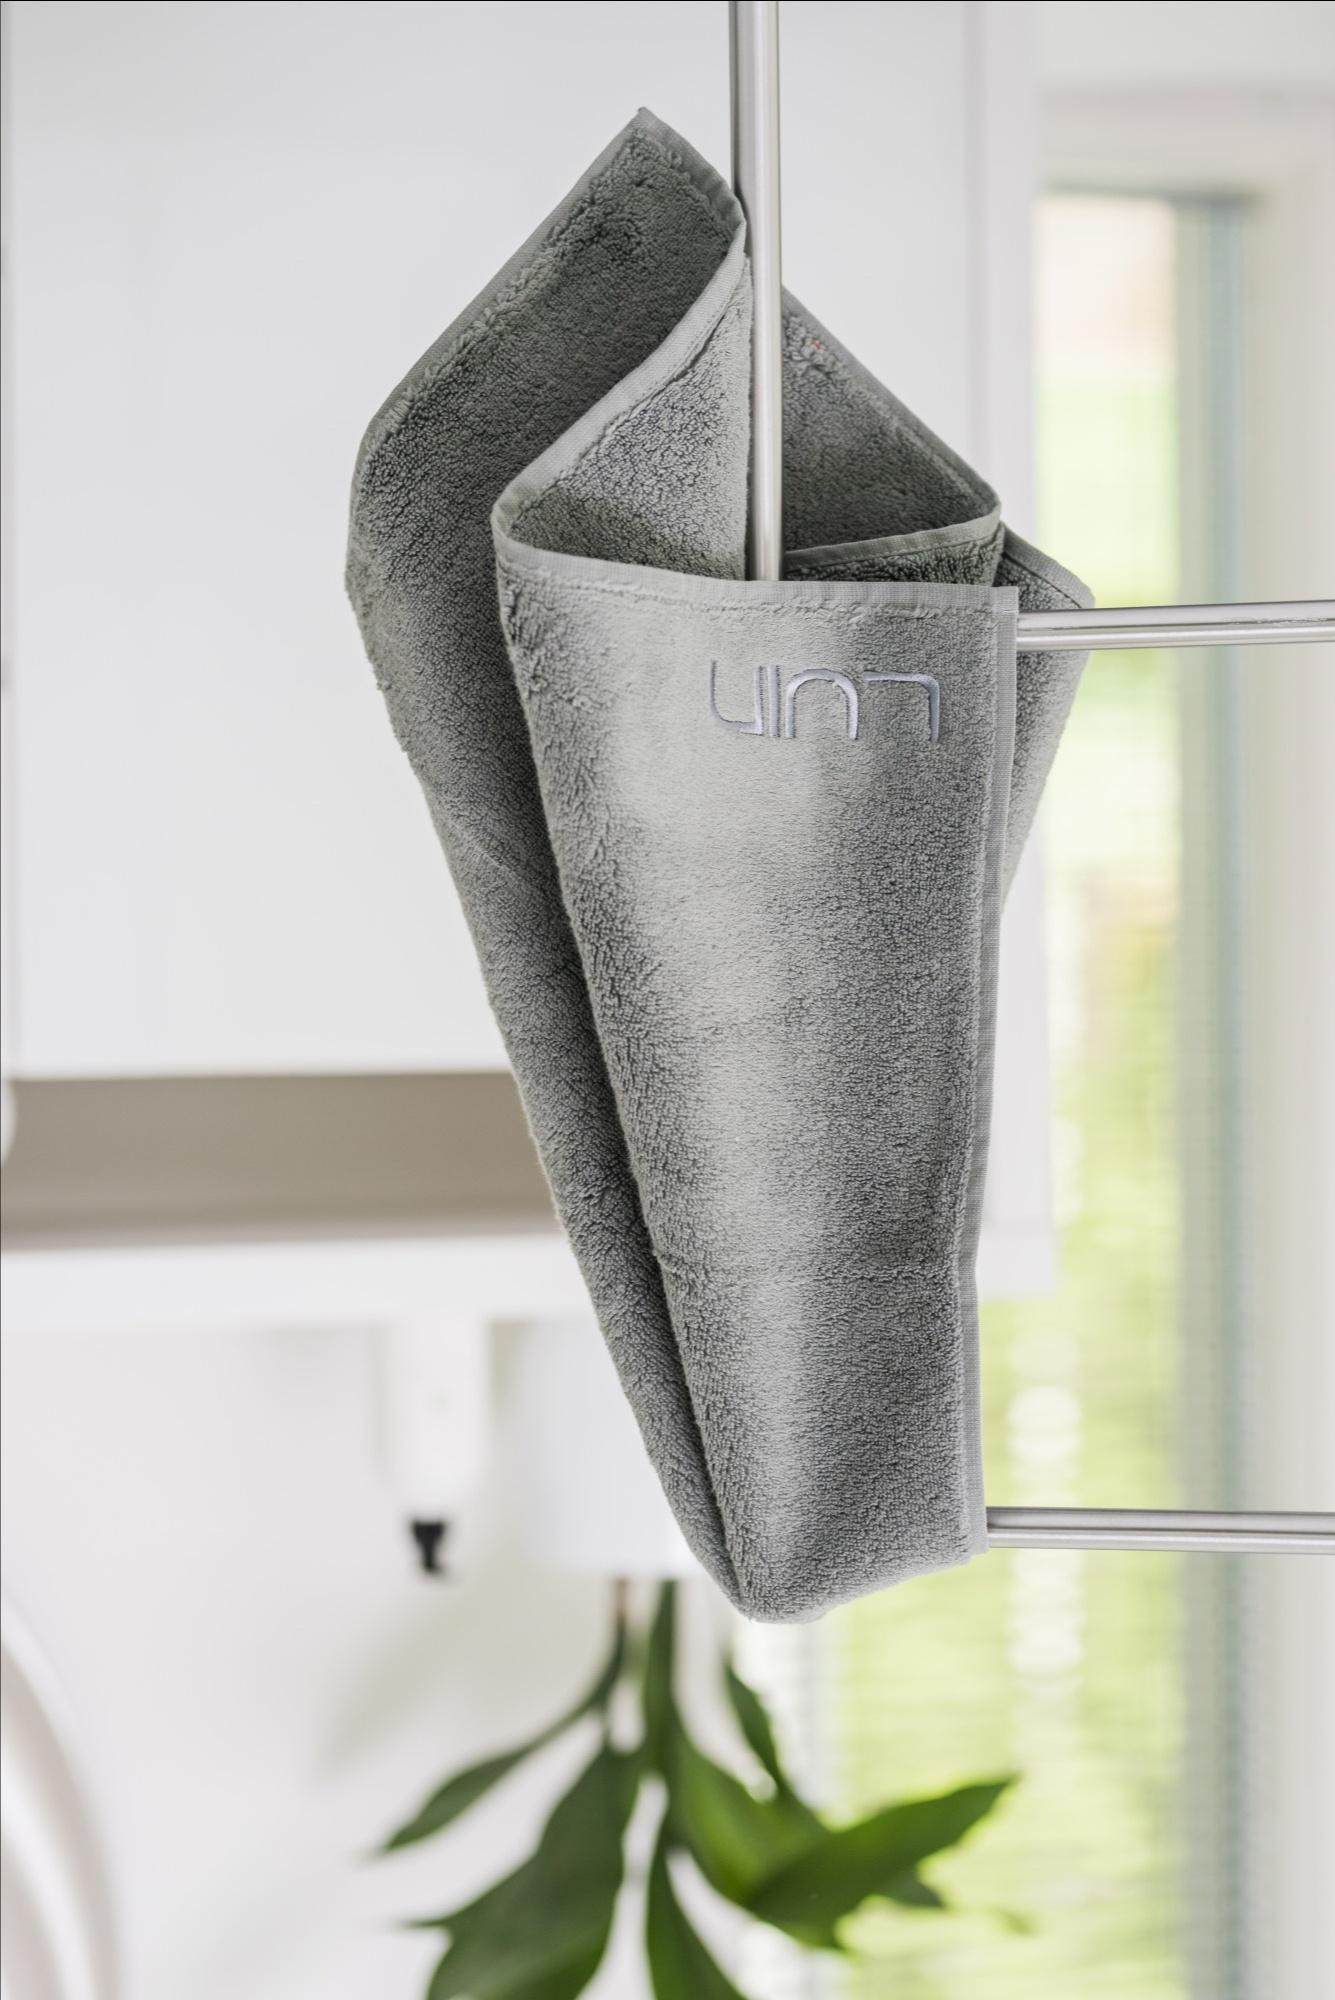towel: (261, 115, 1120, 1610)
